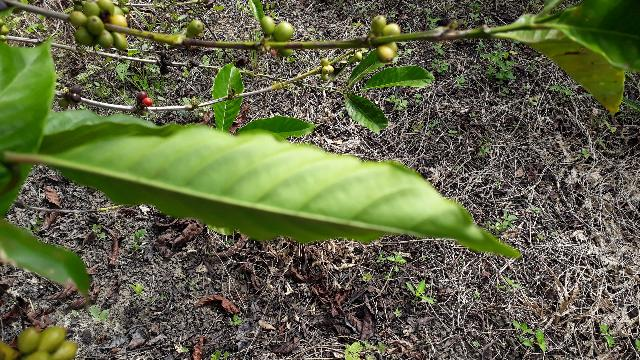healthy: (49, 126, 522, 253)
